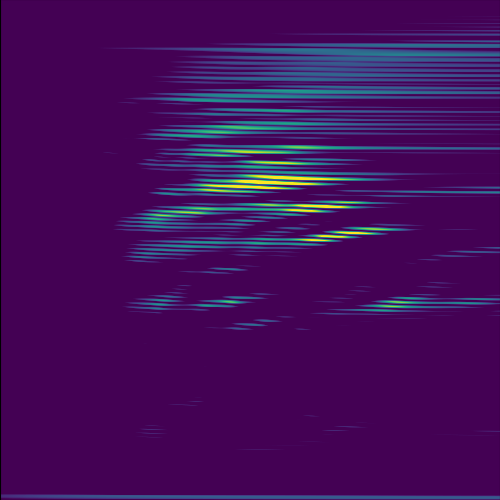semblance: (183, 169, 357, 197), (209, 141, 321, 167), (290, 222, 404, 246), (276, 194, 371, 219)
